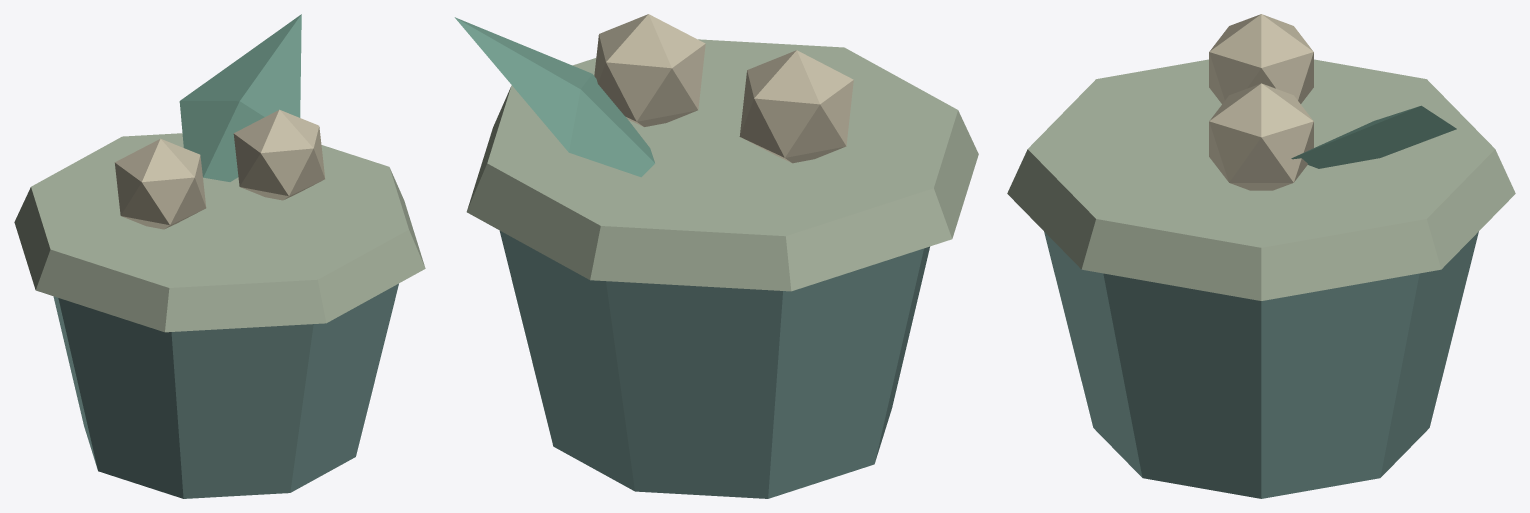
File: map-exclusive-v3__tide_10.glb
3 views of the same model, side by side, from view 1: azimuth 30°, elevation 25°; view 2: azimuth 150°, elevation 25°; view 3: azimuth 270°, elevation 25° (orthographic). The views are drawn at different scales.
Visible parts, largest first — view 1: tide_10; view 2: tide_10; view 3: tide_10.
Part boxes in pixels (x1,y1,x2,y2): tide_10: (14, 14, 425, 498); tide_10: (454, 14, 978, 498); tide_10: (1007, 14, 1515, 498).
Size of the model in its own units: 1.24 by 1.1 by 1.24.
